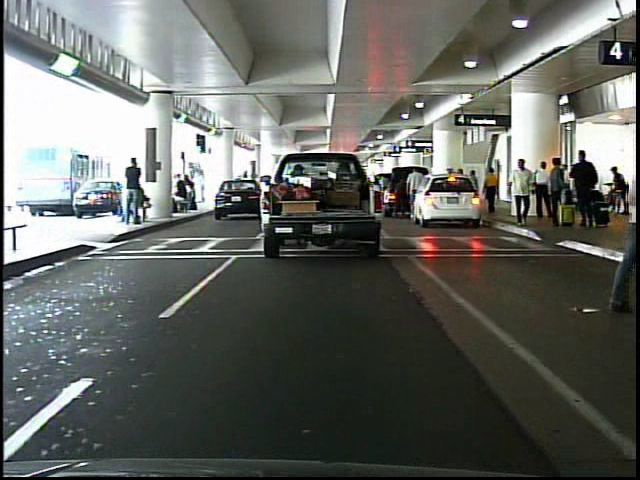person: (569, 146, 606, 232), (509, 155, 541, 232), (603, 161, 633, 220), (125, 158, 148, 229), (405, 163, 430, 221), (548, 155, 567, 228), (534, 161, 553, 223), (485, 163, 502, 217)
